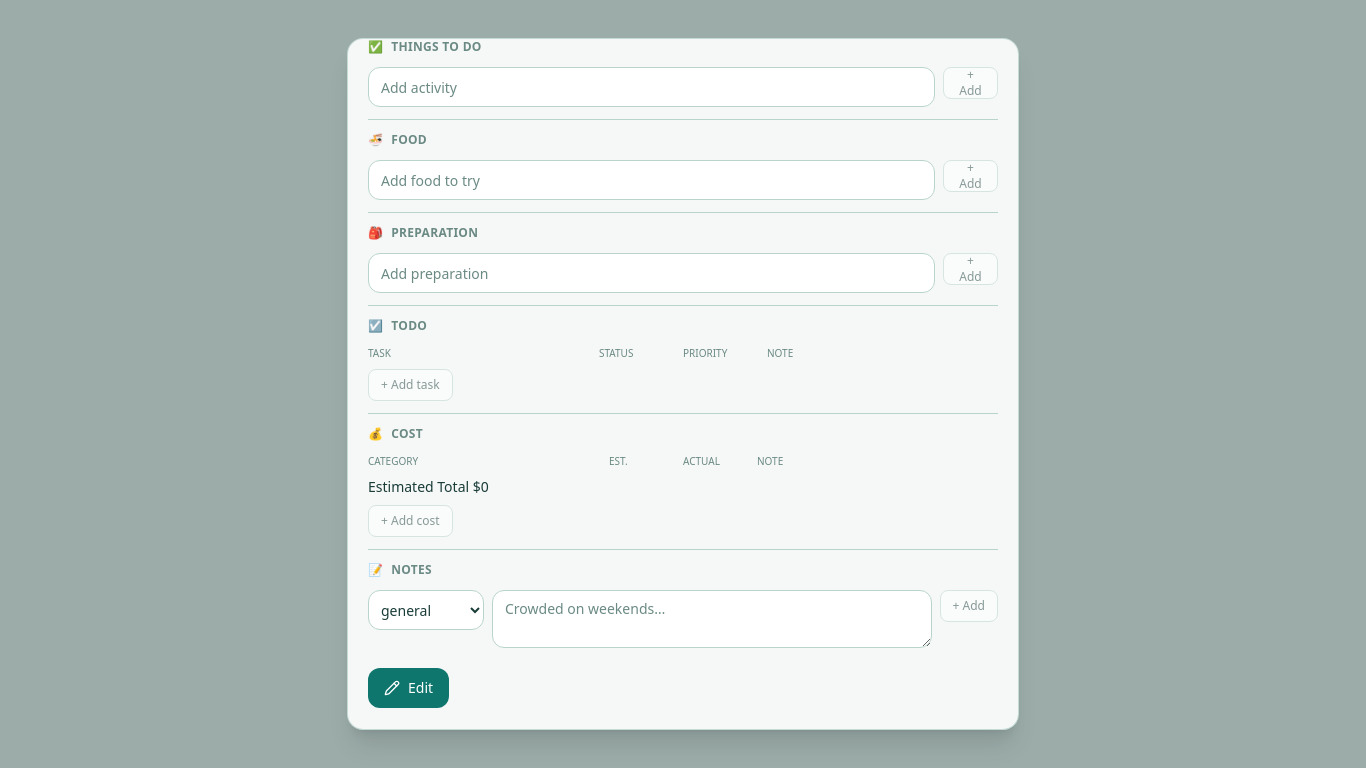
EditItemModal view/edit › unlocks fields when Edit is clicked
(page scrolled)
Click the button with test id "edit-item-enable-edit".
click(409, 688)  # box [368,668,449,708]
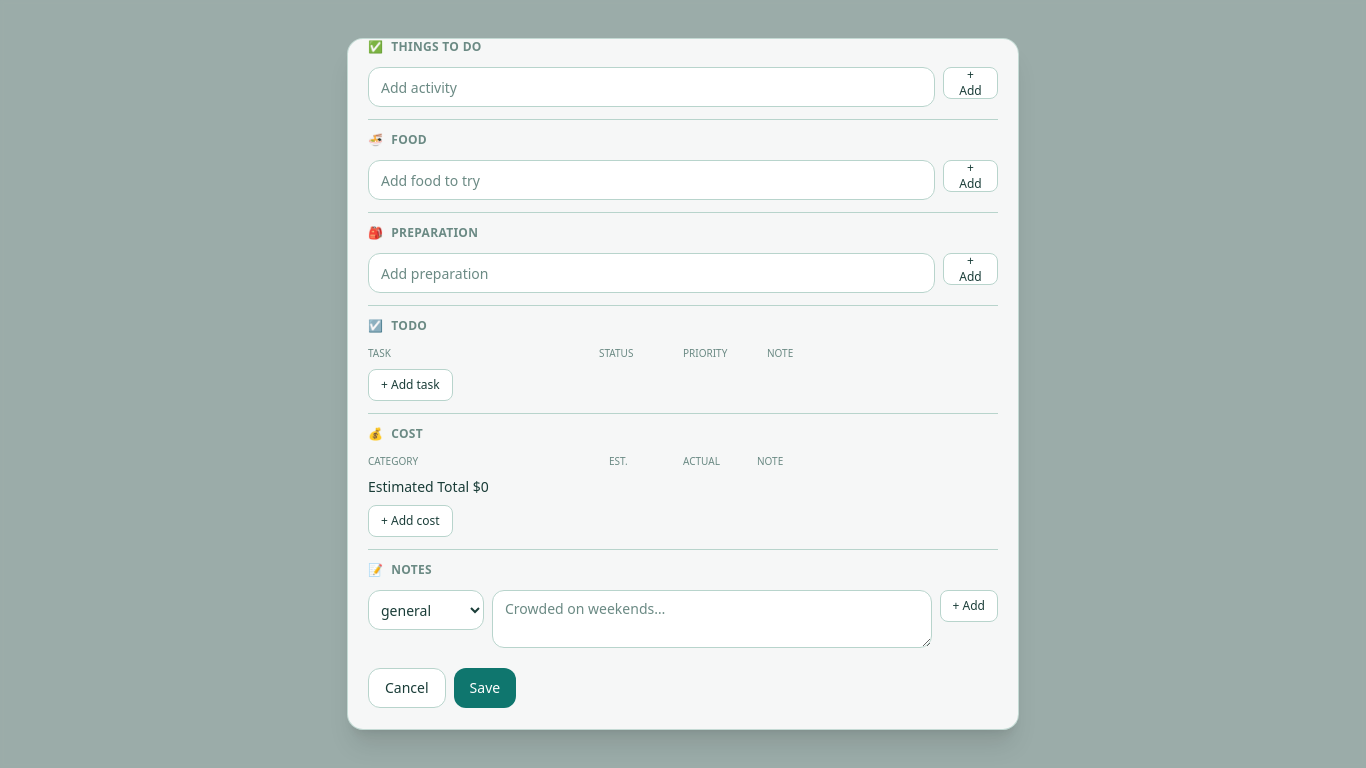
Expected: the button with test id "edit-item-save" is shown, [454,668,516,708]
